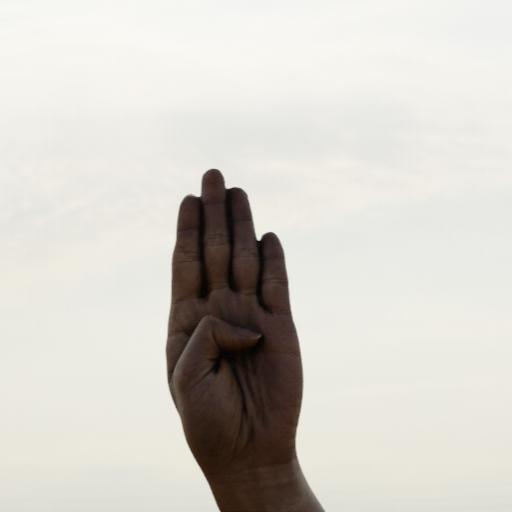B: (138, 149, 344, 492)
